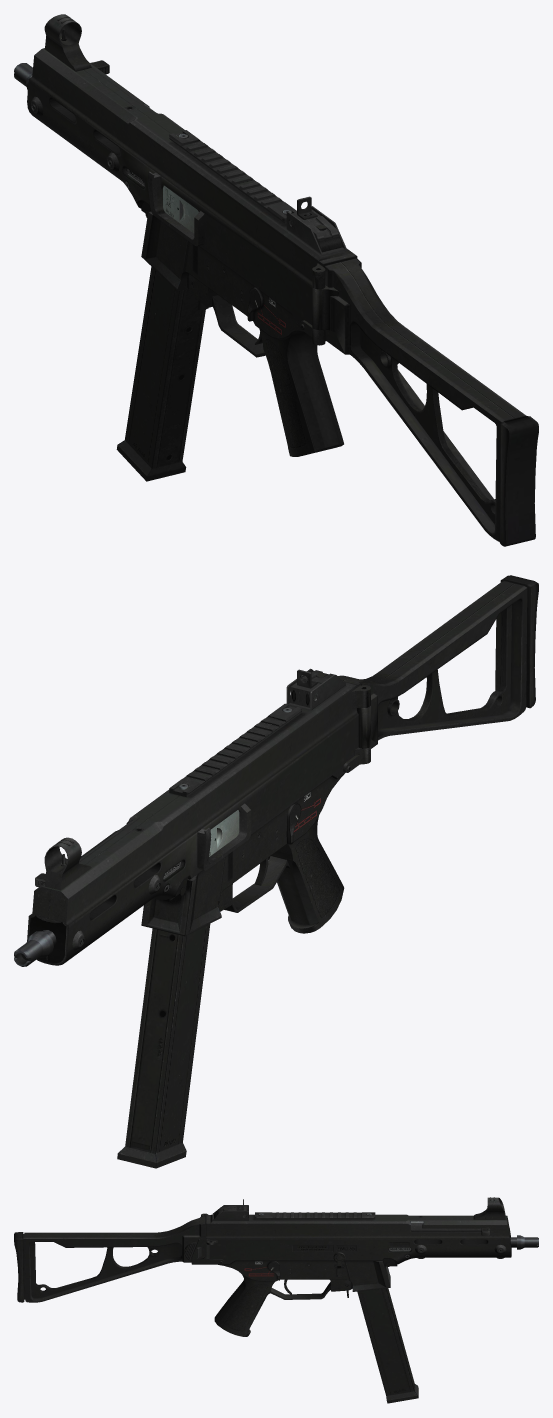
File: UMP45.glb
3 renders of one model, top to bottom at view 1: azimuth 30°, elevation 25°; view 2: azimuth 150°, elevation 25°; view 3: azimuth 270°, elevation 25°, orthographic. The views are drawn at different scales.
Parts seen in each view (by area): view 1: UMP45_Body, Mag; view 2: UMP45_Body, Mag; view 3: UMP45_Body, Mag.
Part boxes in pixels (left/top/right/bottom): UMP45_Body: left=14, top=14, right=538, bottom=546; Mag: left=147, top=289, right=205, bottom=476; UMP45_Body: left=14, top=575, right=538, bottom=1168; Mag: left=118, top=928, right=182, bottom=1162; UMP45_Body: left=14, top=1197, right=538, bottom=1403; Mag: left=357, top=1288, right=417, bottom=1400.
Bounding box in the file's own units: 0.0504 × 0.291 × 0.69.
Materials: 4 (4 with a texture image).
